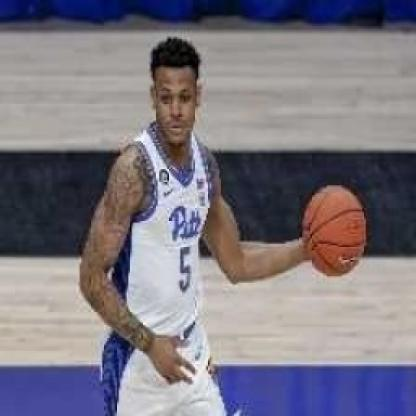basketball: (302, 181, 365, 283)
